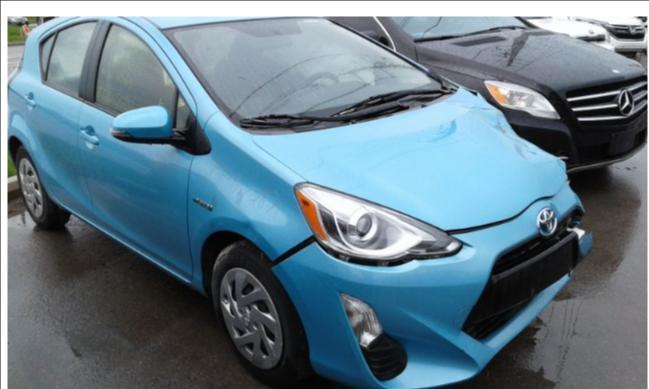Broken part: (271, 231, 466, 270), (440, 193, 559, 236), (570, 208, 595, 263), (460, 85, 478, 98)
Dent: (465, 87, 563, 165), (421, 116, 457, 144)
Missing part: (493, 231, 580, 302), (559, 155, 584, 197), (567, 207, 590, 237)
Paint chip: (549, 197, 560, 219)
